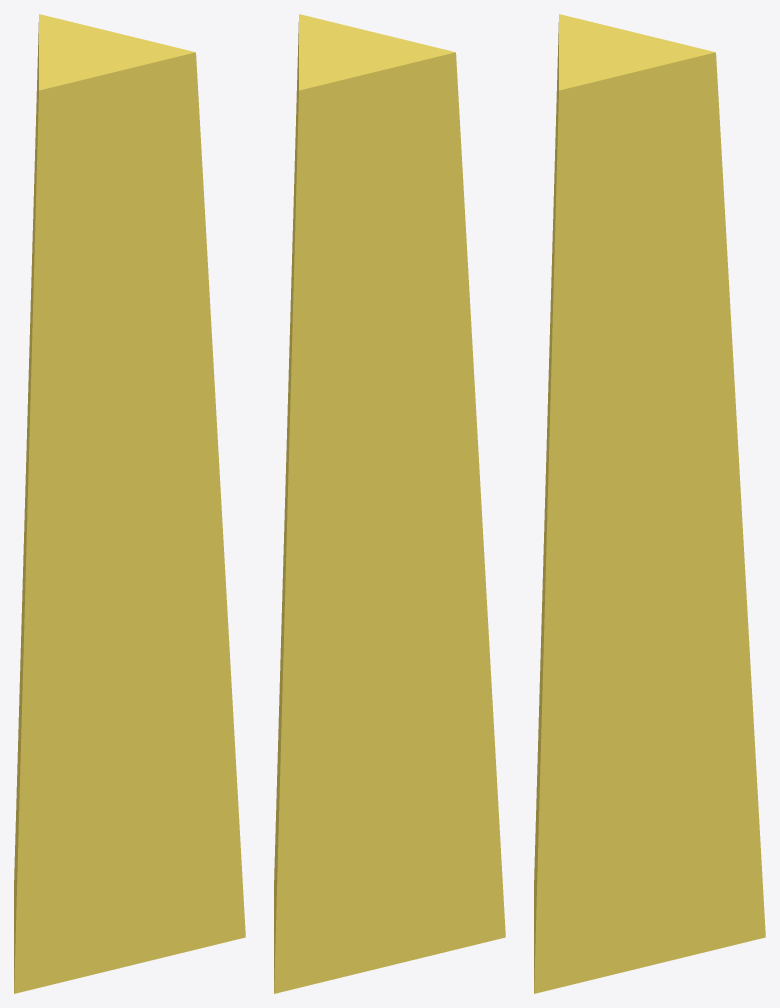
The model's file is wheat_corn_ostov.fbx.
3 renders of one model, left to right at view 1: azimuth 30°, elevation 25°; view 2: azimuth 150°, elevation 25°; view 3: azimuth 270°, elevation 25°, orthographic.
Visible parts, largest first — view 1: Circle; view 2: Circle; view 3: Circle.
Boxes of the visible parts, x1,y1,x2,y2 form: Circle: (14,14,245,993); Circle: (274,14,505,993); Circle: (534,14,765,993).
Size of the model in its own units: 5.17 by 18.88 by 4.48.
